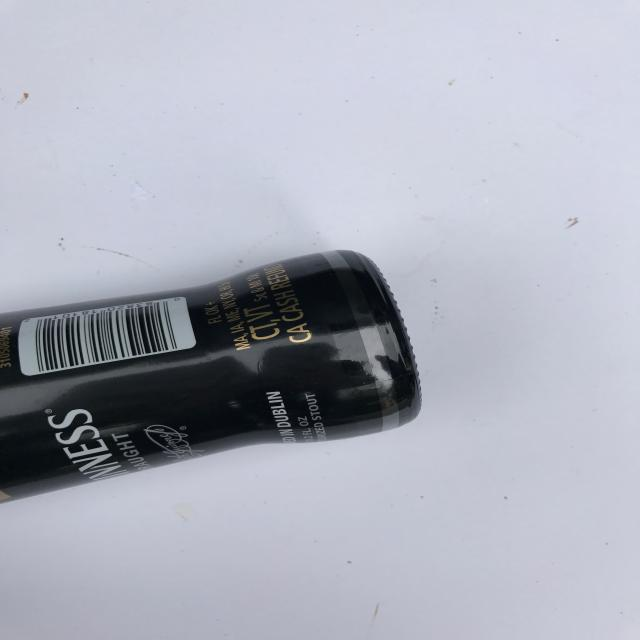glass: (3, 254, 414, 512)
